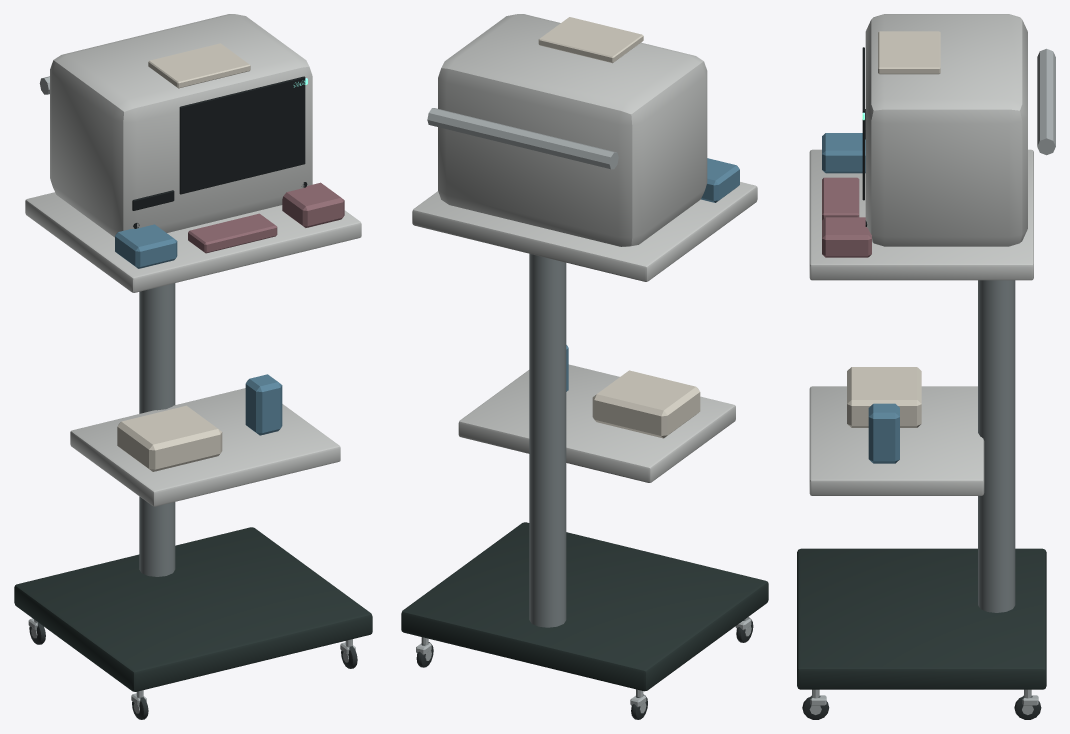
Rendered from fetal-monitor.glb.
3 views of the same model, side by side, from view 1: azimuth 30°, elevation 25°; view 2: azimuth 150°, elevation 25°; view 3: azimuth 270°, elevation 25° (orthographic). The views are drawn at different scales.
Parts seen in each view (by area): view 1: fetal-monitor; view 2: fetal-monitor; view 3: fetal-monitor.
Boxes of the visible parts, left/top/right/bottom form: fetal-monitor: left=14, top=14, right=372, bottom=719; fetal-monitor: left=401, top=14, right=768, bottom=719; fetal-monitor: left=797, top=14, right=1055, bottom=719.
Size of the model in its own units: 0.46 by 1.09 by 0.415.
